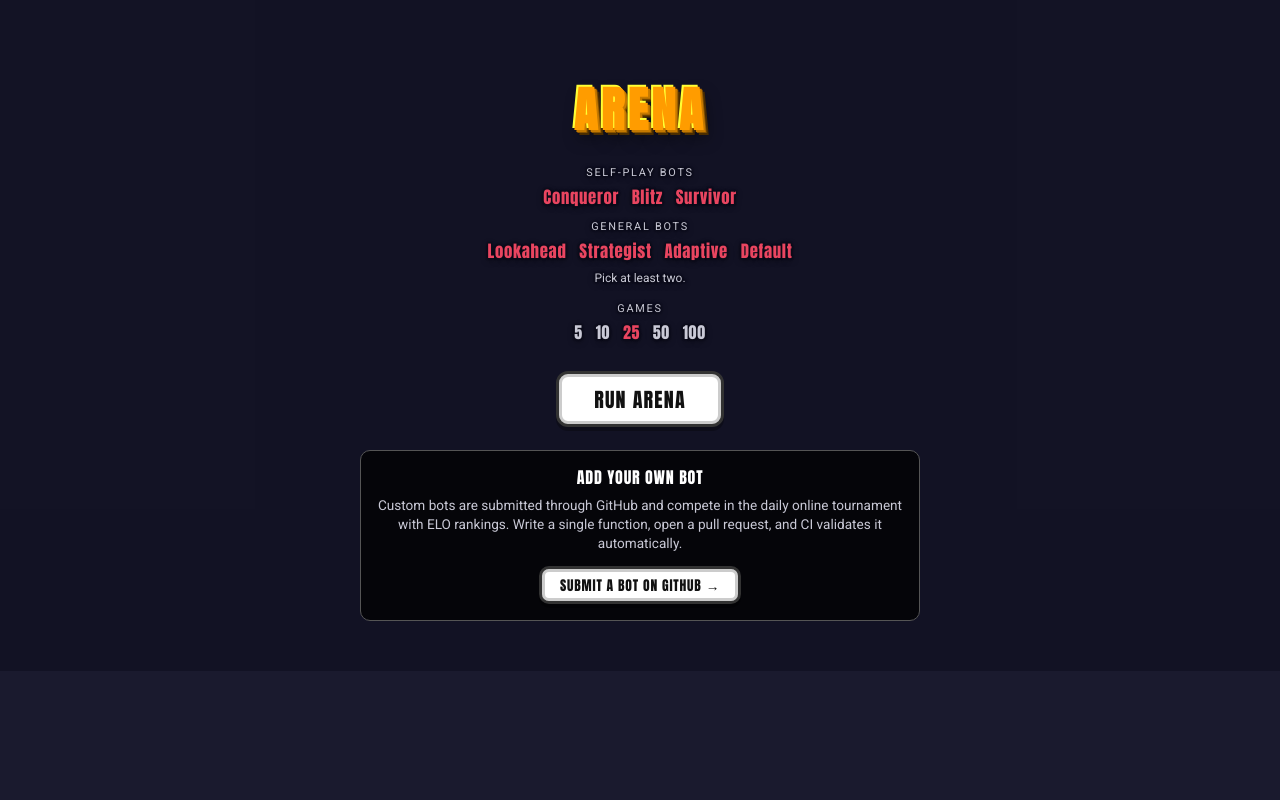
Test: ArenaScreen broken-bot surfacing › shows no flag badge when every bot is healthy
This screenshot has width=1280, height=800.
Click the button "5": (579, 332) [568, 318, 589, 346]
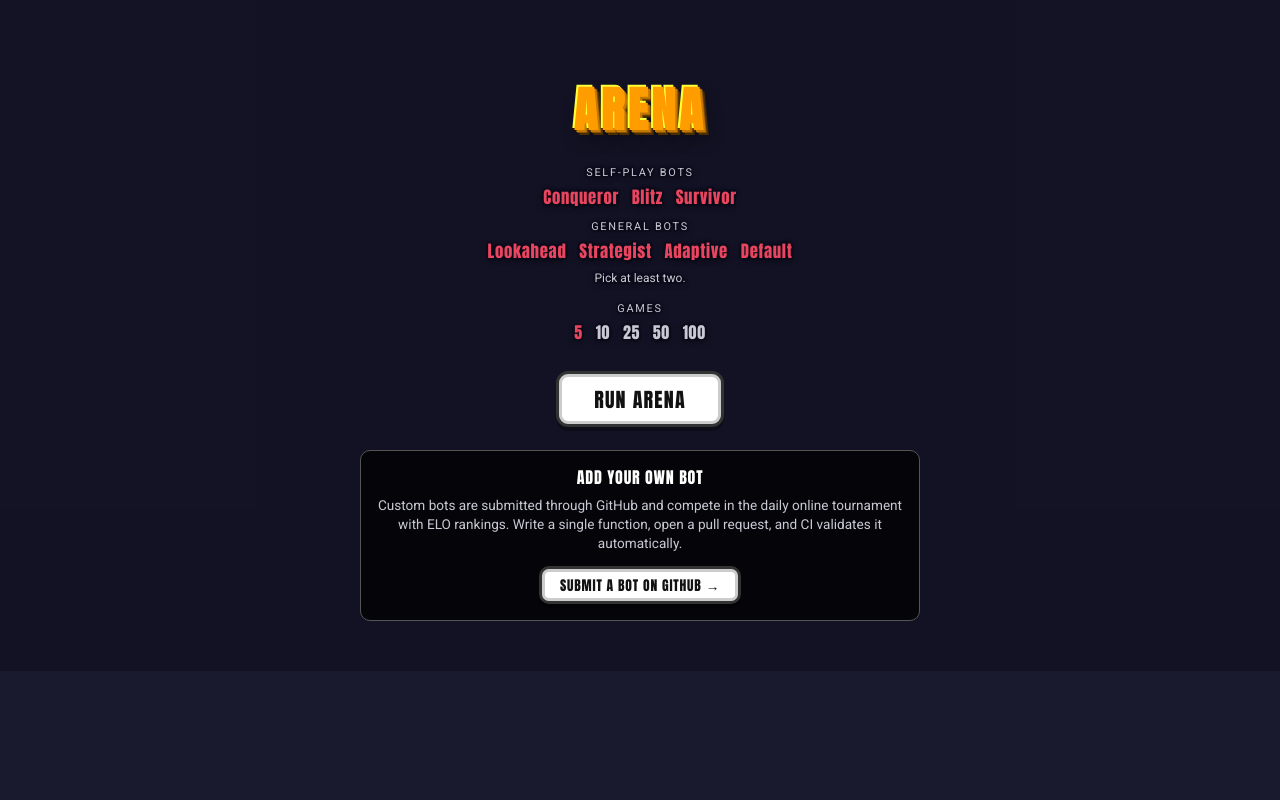
Click the button "RUN ARENA": (640, 399) [556, 371, 724, 428]
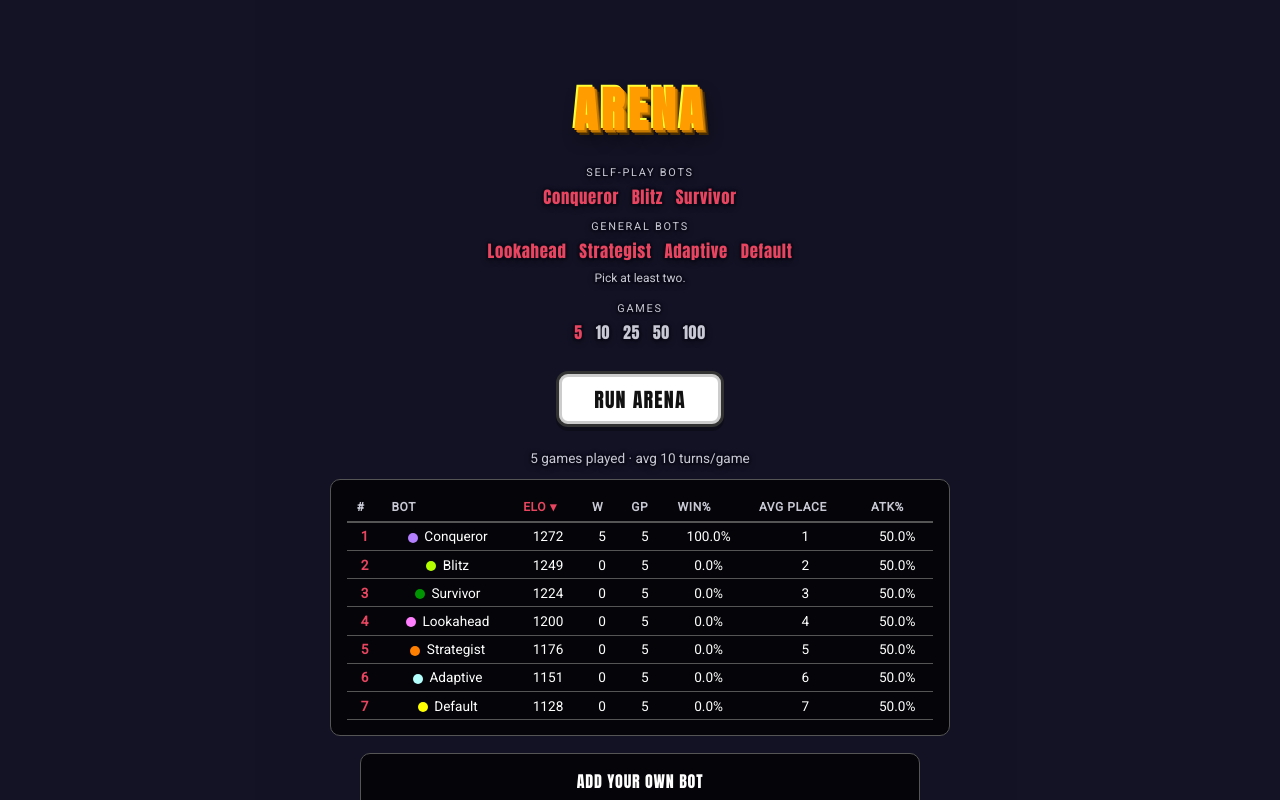
Now the table is shown, box [347, 494, 933, 720]
